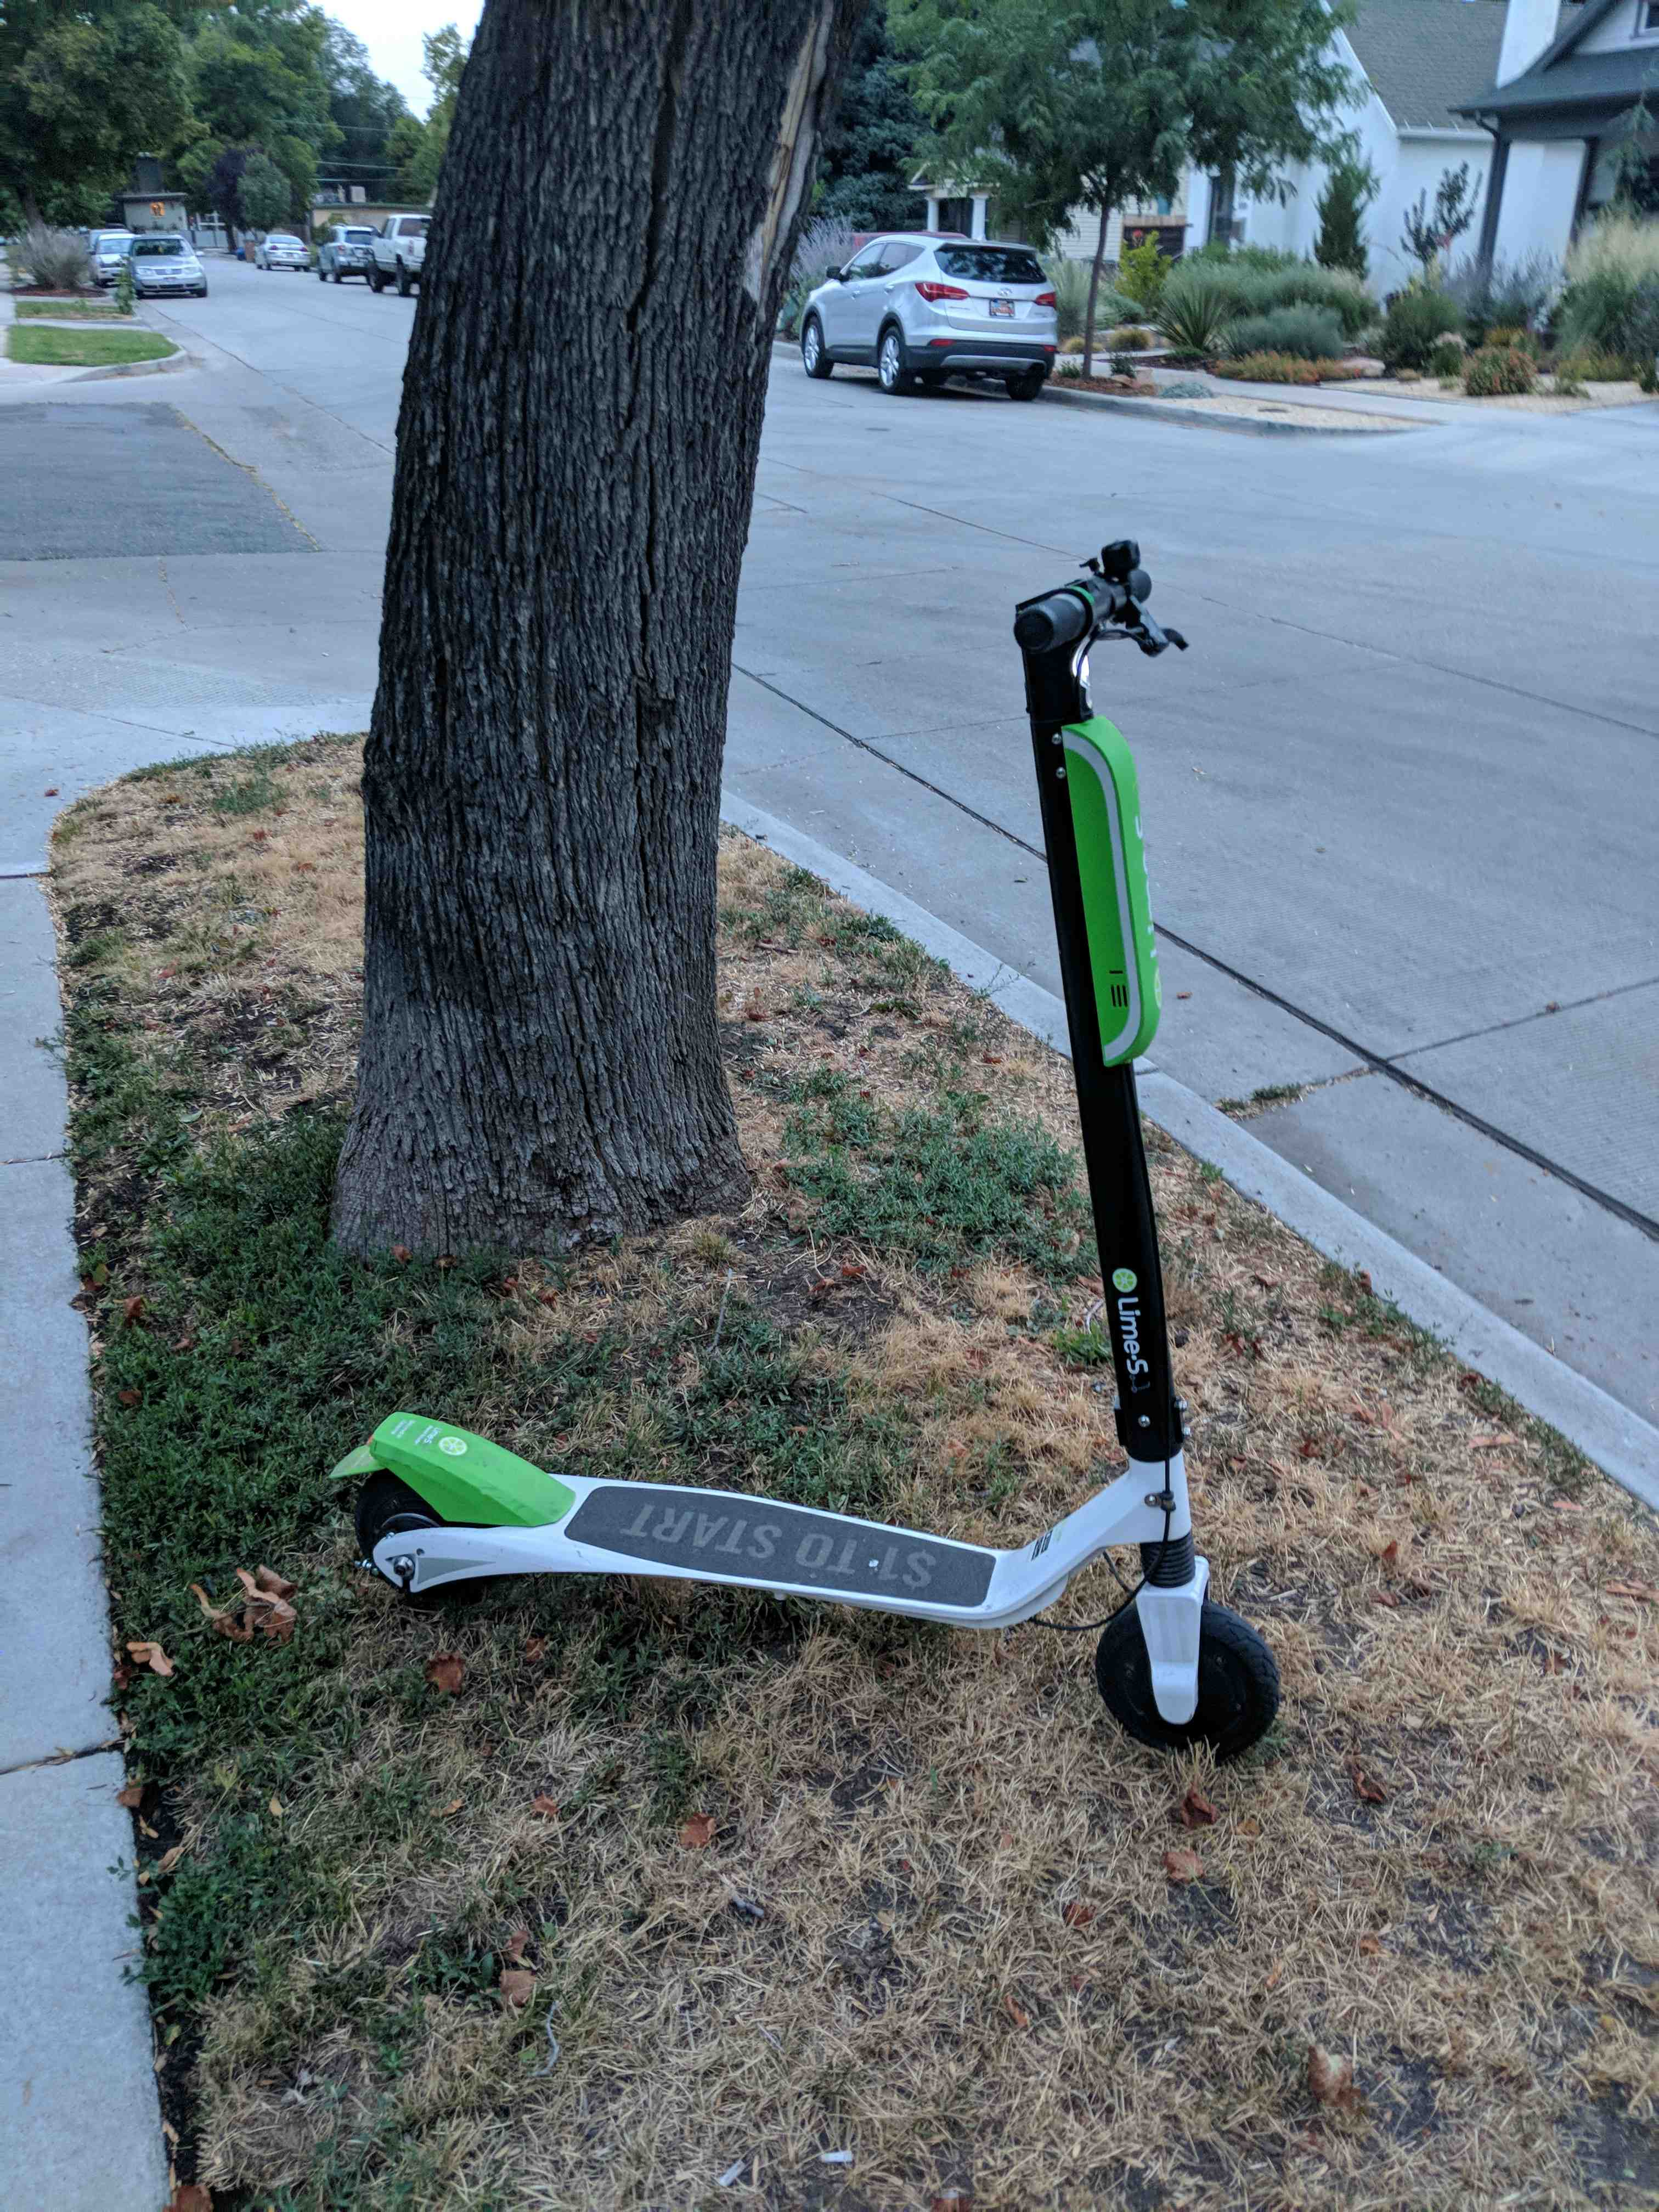scooter: (298, 475, 1263, 1780)
